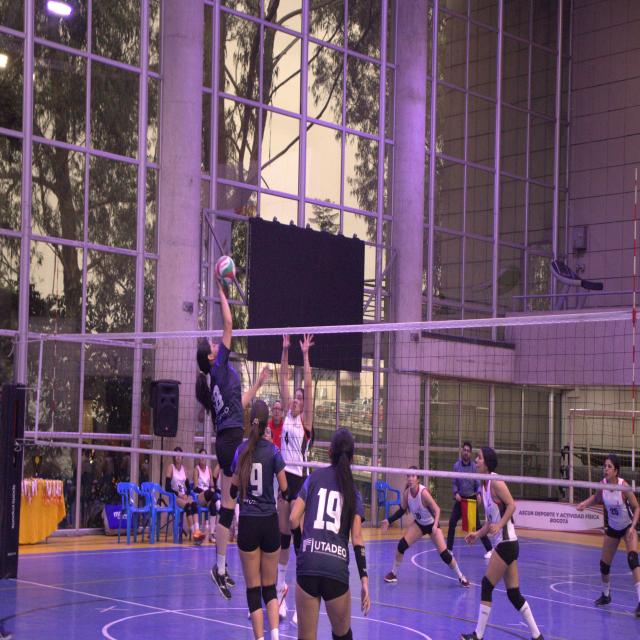volleyball: (214, 254, 236, 285)
